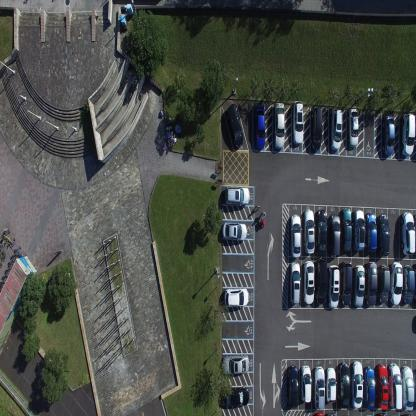car: (226, 102, 244, 148), (388, 362, 402, 410), (221, 353, 250, 376), (220, 386, 249, 408), (401, 112, 415, 157), (400, 211, 414, 256), (273, 101, 285, 151), (337, 362, 350, 408), (316, 208, 328, 257), (328, 213, 341, 258), (363, 365, 376, 410), (401, 366, 414, 411), (351, 360, 363, 408), (376, 362, 388, 410), (389, 261, 402, 305), (310, 105, 322, 152), (315, 258, 327, 305), (402, 264, 416, 304), (302, 208, 314, 254), (340, 260, 352, 306), (365, 260, 377, 306), (222, 220, 247, 242), (224, 286, 249, 308), (377, 214, 390, 256), (330, 108, 343, 150), (286, 364, 298, 409), (223, 186, 250, 206), (353, 264, 365, 308), (328, 264, 340, 308), (313, 365, 325, 409), (354, 209, 366, 252), (289, 260, 300, 306), (254, 102, 265, 148), (342, 208, 353, 254), (292, 99, 303, 145), (290, 213, 301, 258), (378, 264, 390, 304), (366, 212, 377, 254), (383, 114, 394, 156), (304, 260, 314, 305), (348, 107, 359, 147), (300, 365, 311, 403), (326, 365, 336, 403), (412, 368, 416, 406), (314, 411, 324, 415), (327, 411, 337, 415), (378, 411, 388, 415)
